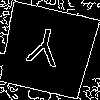Y: (22, 25, 64, 77)
